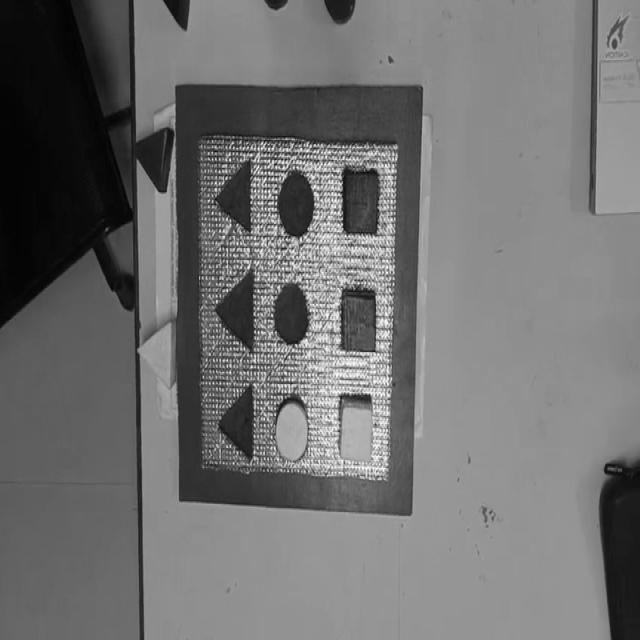bcube: (342, 168, 380, 238)
btriangle: (158, 0, 189, 29)
mtcircle: (278, 171, 314, 238), (274, 282, 310, 346)
mttriangle: (215, 268, 256, 353), (215, 158, 254, 235), (217, 384, 255, 463)
rcube: (341, 288, 377, 355)
rtriangle: (135, 127, 173, 194)
wb: (197, 131, 397, 488)
ycircle: (274, 397, 309, 463)
ycube: (338, 394, 374, 465)
ytriangle: (137, 319, 177, 389)
